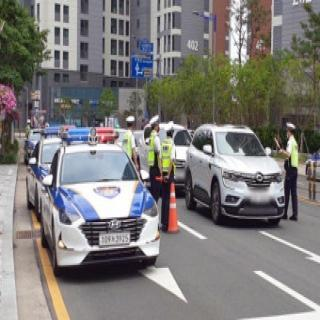Police_car: (40, 124, 162, 278), (26, 125, 76, 218), (304, 140, 320, 180)
